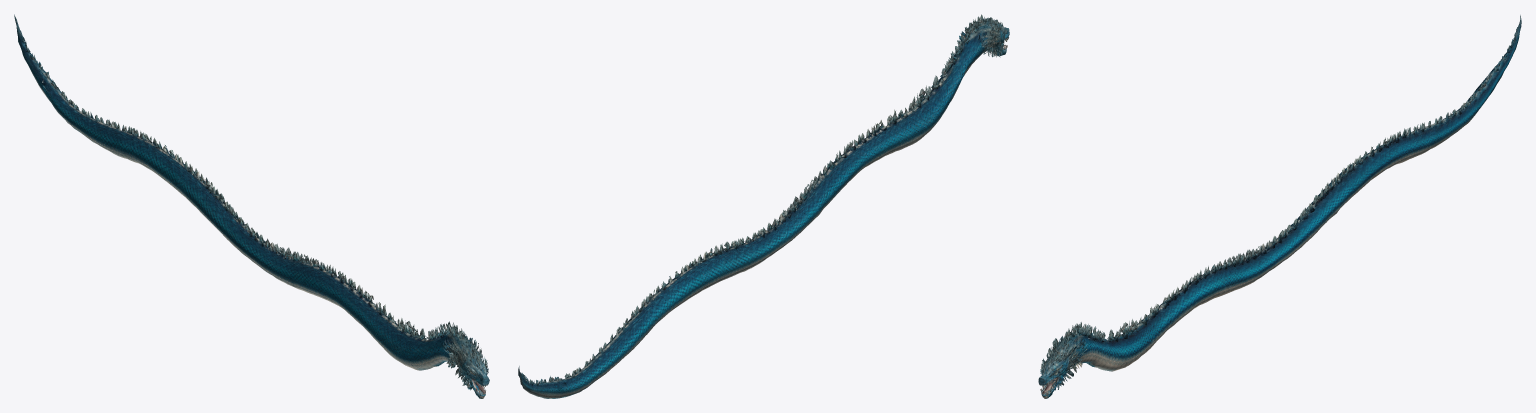
The model's file is moana-meshy.glb.
The picture shows the model from 3 angles, left to right: view 1: azimuth 30°, elevation 25°; view 2: azimuth 150°, elevation 25°; view 3: azimuth 330°, elevation 25°; orthographic projection. The views are drawn at different scales.
Bounding box in the file's own units: 0.0325 × 0.1002 × 1.
Materials: 1 (1 with a texture image).
